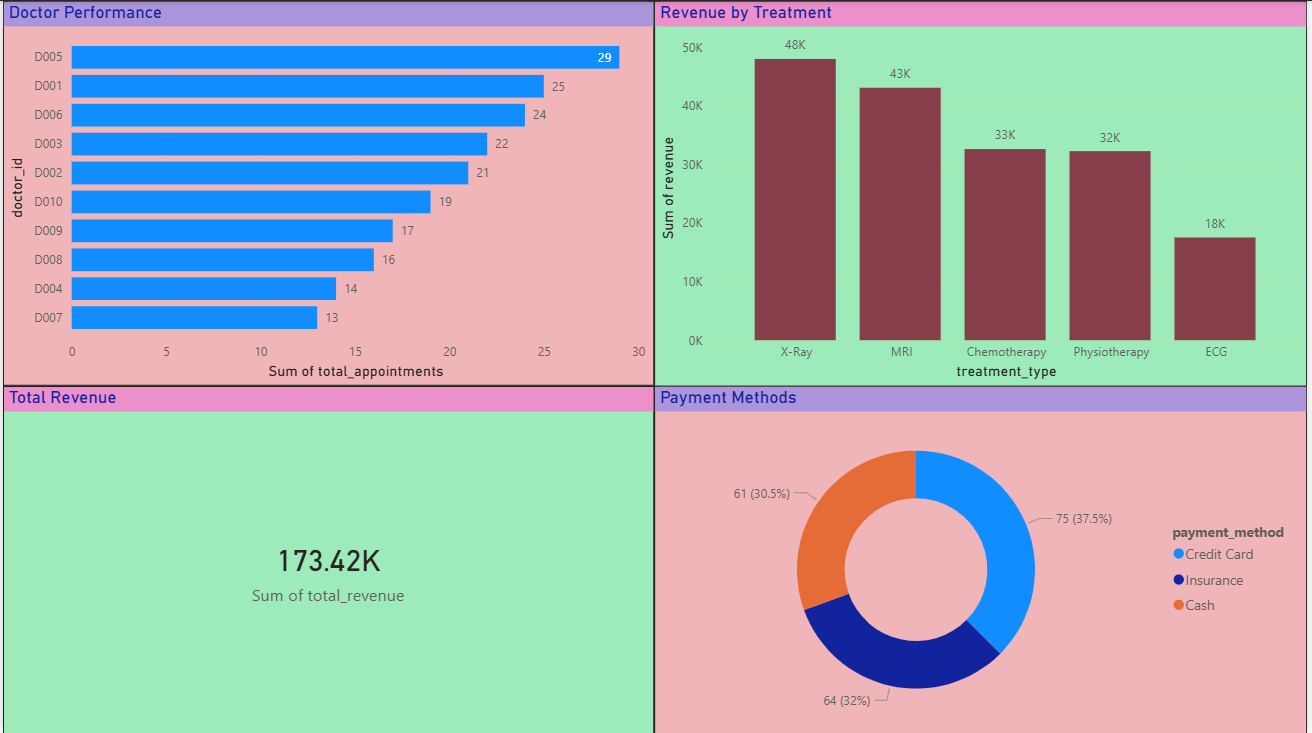

The page's visual inventory and layout, read from the dashboard file:
{"tool":"powerbi","page":{"name":"Page 2","canvas":[1280,720],"ordinal":1},"visuals":[{"type":"barChart","title":"Doctor Performance","fields":{"Y":["Sum(doctor_performance.total_appointments)"],"Category":["doctor_performance.doctor_id"]},"box":[0,0,639.3,377.9],"z":0},{"type":"card","title":"Total Revenue","fields":{"Values":["Sum(total_revenue.total_revenue)"]},"box":[0,377.9,639.3,342.3],"z":1000},{"type":"columnChart","title":"Revenue by Treatment","fields":{"Y":["Sum(revenue_by_treatment.revenue)"],"Category":["revenue_by_treatment.treatment_type"]},"box":[639.4,0,640.6,378.2],"z":2000},{"type":"donutChart","title":"Payment Methods","fields":{"Y":["Sum(payment_methods.count)"],"Category":["payment_methods.payment_method"]},"box":[639.4,378.2,640.6,342.1],"z":3000}]}

Visuals, with their boxes in screenshot pixels (x1, y1, x2, y2), scaled from the page's 1280x720 canvas onto the 1312x733 screenshot:
"Doctor Performance" barChart: 0:0:655:385
"Total Revenue" card: 0:385:655:732
"Revenue by Treatment" columnChart: 655:0:1311:385
"Payment Methods" donutChart: 655:385:1311:732
